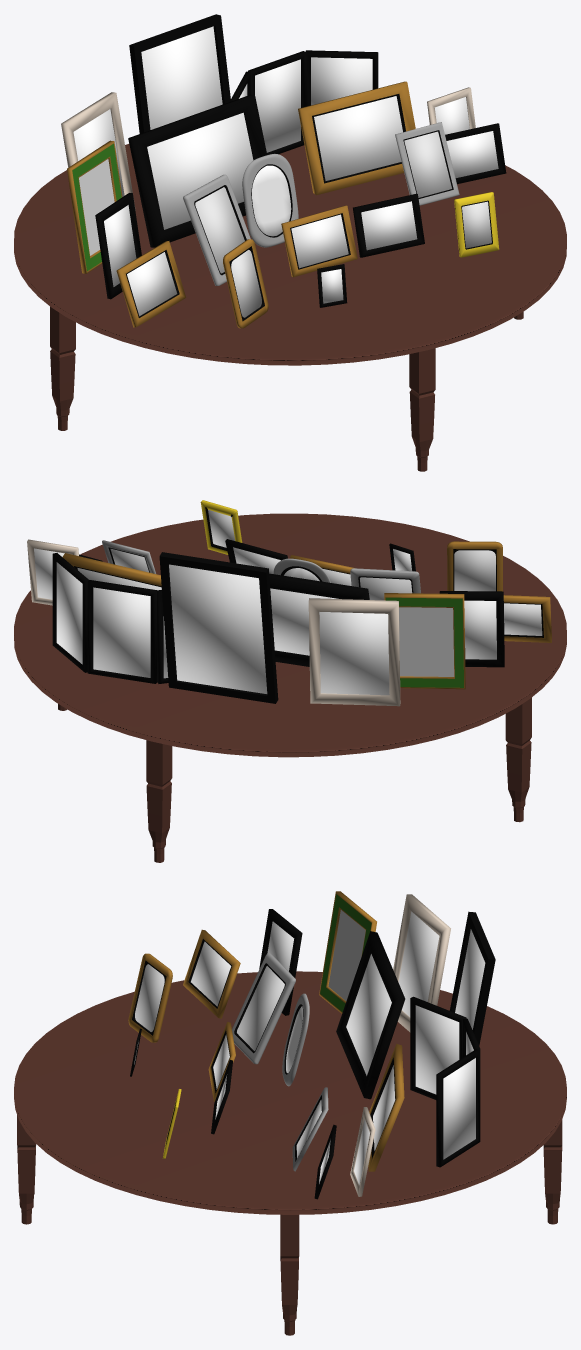
File: photo-table.glb
3 views of the same model, one above another, from view 1: azimuth 30°, elevation 25°; view 2: azimuth 150°, elevation 25°; view 3: azimuth 270°, elevation 25° (orthographic).
Visible parts, largest first — view 1: Cylinder, Plane.024, Plane.021, Plane.028, Plane.006, Plane.005, Plane.026, Plane.002, Cube, Cube.003, Plane.027, Plane.012 (+28 smaller); view 2: Cylinder, Plane.021, Plane.022, Plane.026, Plane.002, Plane.007, Plane.023, Plane.012, Cube.001, Cube.003, Plane.024, Plane.027 (+23 smaller); view 3: Cylinder, Plane.006, Plane.025, Plane.024, Plane.027, Plane.022, Plane.007, Cube.002, Plane.023, Plane.002, Plane.013, Plane.030 (+18 smaller).
Part boxes in pixels (x1,y1,x2,y2): Cylinder: (14, 144, 566, 365); Plane.024: (147, 112, 253, 229); Plane.021: (141, 26, 222, 129); Plane.028: (314, 96, 402, 180); Plane.006: (128, 94, 267, 247); Plane.005: (298, 81, 415, 195); Plane.026: (255, 59, 300, 152); Plane.002: (129, 14, 230, 133); Cube: (409, 348, 435, 471); Cube.003: (50, 307, 75, 430); Plane.027: (311, 57, 372, 105); Plane.012: (67, 140, 122, 273); Cylinder: (14, 513, 566, 757); Plane.021: (169, 564, 267, 693); Plane.022: (319, 612, 389, 695); Plane.026: (93, 587, 150, 677); Plane.002: (159, 552, 278, 703); Plane.007: (308, 598, 400, 706); Plane.023: (399, 607, 454, 676); Plane.012: (384, 593, 465, 689); Cube.001: (146, 740, 172, 862); Cube.003: (505, 697, 531, 822); Plane.024: (270, 588, 338, 655); Plane.027: (56, 562, 82, 664); Cylinder: (14, 971, 566, 1214); Plane.006: (336, 931, 405, 1099); Plane.025: (415, 1005, 459, 1094); Plane.024: (346, 954, 391, 1075); Plane.027: (443, 1058, 475, 1159); Plane.022: (398, 911, 439, 1016); Plane.007: (393, 894, 450, 1032); Cube.002: (280, 1214, 299, 1335); Plane.023: (328, 910, 365, 1001); Plane.002: (449, 911, 495, 1045); Plane.013: (232, 953, 295, 1064); Plane.030: (237, 966, 284, 1050).
Bounding box in the file's own units: 6.19 × 3.43 × 6.19.
